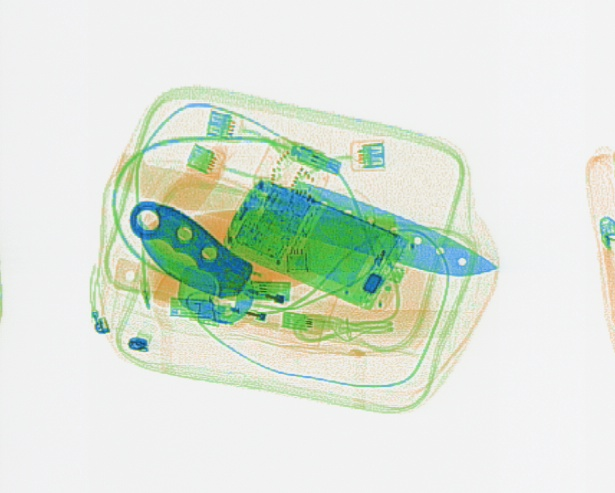knife: (109, 149, 500, 278), (125, 199, 251, 297)
lighter: (191, 290, 325, 348), (214, 269, 335, 315)
